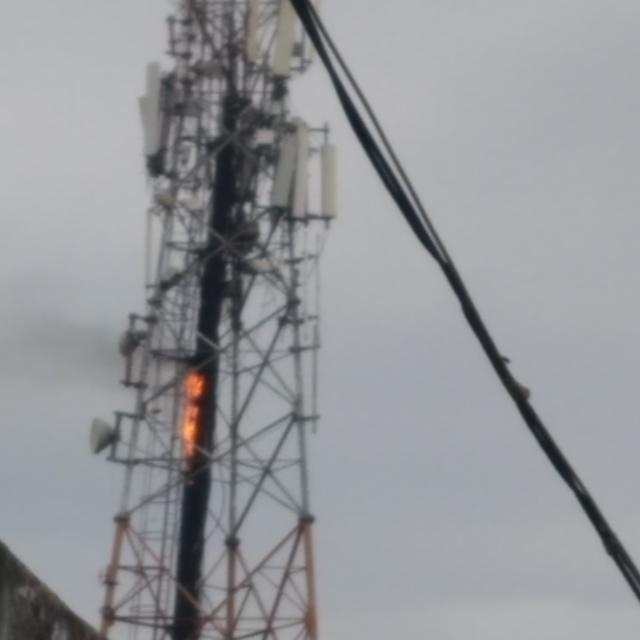Fire: (177, 336, 218, 519)
